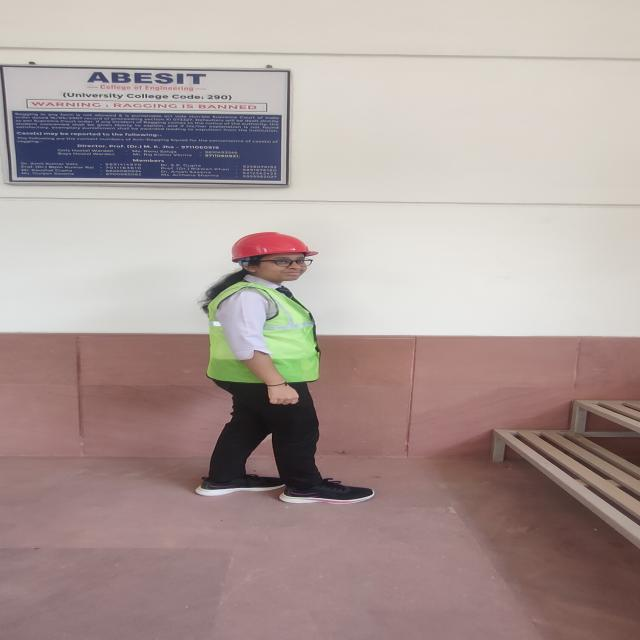safe: (198, 232, 375, 503)
